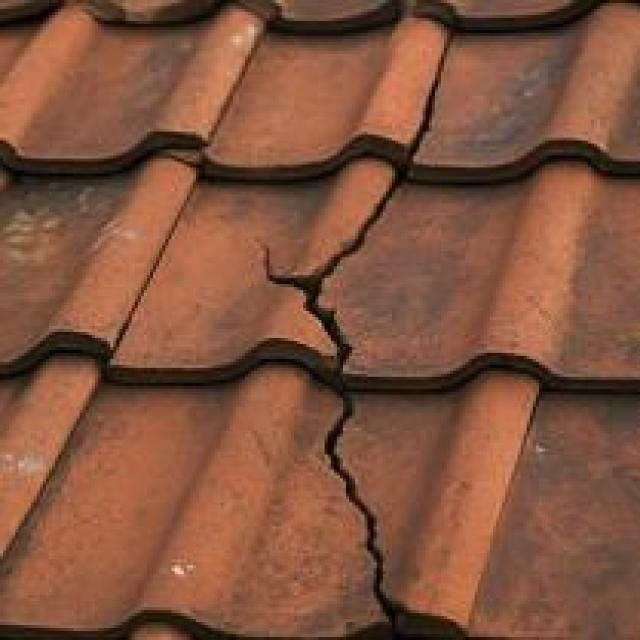fissure: (249, 21, 475, 632)
